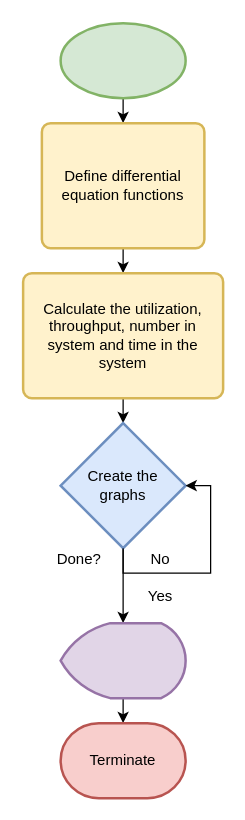
The diagram is 245 pixels wide and 820 high, and some of its shapes have lost their labels. The centre of each missing label's shape, as x and y in pixels:
"Display the results" belongs at (x=122, y=660).
"Start" belongs at (x=122, y=60).
